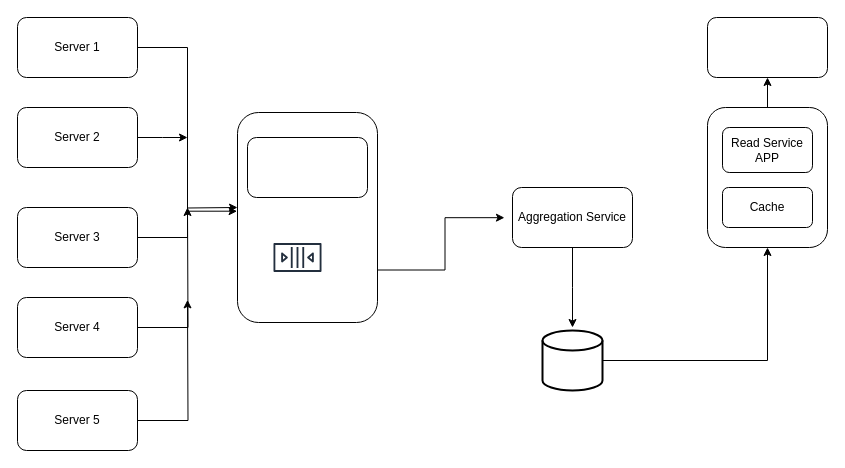
Image size: 845x468. Some labels were removed from this diagram. Here are the shapes that lost their labels. From the top down, the centre of each, then its label:
[767,47]: Dashboard
[307,167]: Collection Service API
[297,257]: Queue
[572,360]: DB / TSDB
